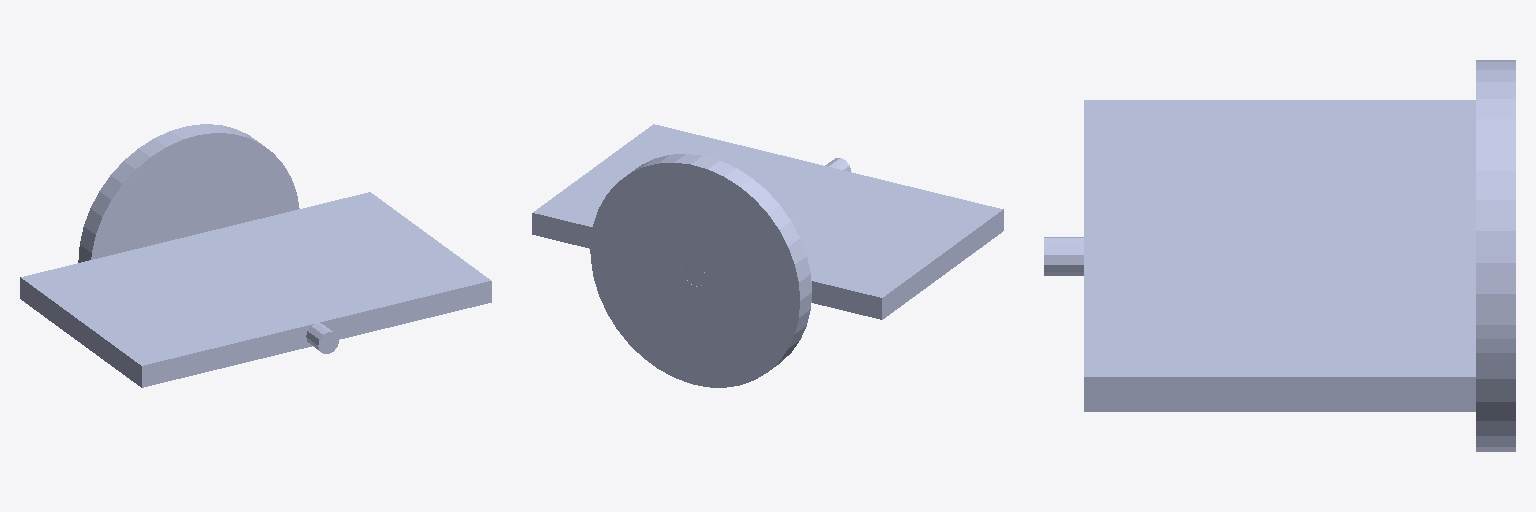
URDF robot description (Assem1.URDF):
<?xml version="1.0" encoding="utf-8"?>
<!-- This URDF was automatically created by SolidWorks to URDF Exporter! Originally created by [author] ([email redacted]) 
     Commit Version: 1.5.1-0-g916b5db  Build Version: 1.5.7152.31018
     For more information, please see http://wiki.ros.org/sw_urdf_exporter -->
<robot
  name="Assem1.URDF">
  <link
    name="base_link">
    <inertial>
      <origin
        xyz="0.19957 0.22972 0.40836"
        rpy="0 0 0" />
      <mass
        value="4.5424" />
      <inertia
        ixx="0.035248"
        ixy="-5.8363E-19"
        ixz="-1.1063E-17"
        iyy="0.12866"
        iyz="1.5811E-19"
        izz="0.094092" />
    </inertial>
    <visual>
      <origin
        xyz="0 0 0"
        rpy="0 0 0" />
      <geometry>
        <mesh
          filename="package://Assem1.URDF/meshes/base_link.STL" />
      </geometry>
      <material
        name="">
        <color
          rgba="0.79216 0.81961 0.93333 1" />
      </material>
    </visual>
    <collision>
      <origin
        xyz="0 0 0"
        rpy="0 0 0" />
      <geometry>
        <mesh
          filename="package://Assem1.URDF/meshes/base_link.STL" />
      </geometry>
    </collision>
  </link>
  <link
    name="W1">
    <inertial>
      <origin
        xyz="-2.7756E-17 0 0.015"
        rpy="0 0 0" />
      <mass
        value="2.0994" />
      <inertia
        ixx="0.012084"
        ixy="-1.8222E-38"
        ixz="9.404E-36"
        iyy="0.012084"
        iyz="-9.3126E-36"
        izz="0.023854" />
    </inertial>
    <visual>
      <origin
        xyz="0 0 0"
        rpy="0 0 0" />
      <geometry>
        <mesh
          filename="package://Assem1.URDF/meshes/W1.STL" />
      </geometry>
      <material
        name="">
        <color
          rgba="0.79216 0.81961 0.93333 1" />
      </material>
    </visual>
    <collision>
      <origin
        xyz="0 0 0"
        rpy="0 0 0" />
      <geometry>
        <mesh
          filename="package://Assem1.URDF/meshes/W1.STL" />
      </geometry>
    </collision>
  </link>
  <joint
    name="W1"
    type="continuous">
    <origin
      xyz="0.19957 -0.55836 0.22972"
      rpy="1.5708 0 0" />
    <parent
      link="base_link" />
    <child
      link="W1" />
    <axis
      xyz="0 0 1" />
  </joint>
  <link
    name="W2">
    <inertial>
      <origin
        xyz="-2.7756E-17 0 0.015"
        rpy="0 0 0" />
      <mass
        value="2.0994" />
      <inertia
        ixx="0.012084"
        ixy="-1.8222E-38"
        ixz="9.404E-36"
        iyy="0.012084"
        iyz="-9.3126E-36"
        izz="0.023854" />
    </inertial>
    <visual>
      <origin
        xyz="0 0 0"
        rpy="0 0 0" />
      <geometry>
        <mesh
          filename="package://Assem1.URDF/meshes/W2.STL" />
      </geometry>
      <material
        name="">
        <color
          rgba="0.79216 0.81961 0.93333 1" />
      </material>
    </visual>
    <collision>
      <origin
        xyz="0 0 0"
        rpy="0 0 0" />
      <geometry>
        <mesh
          filename="package://Assem1.URDF/meshes/W2.STL" />
      </geometry>
    </collision>
  </link>
  <joint
    name="W2"
    type="continuous">
    <origin
      xyz="0.19957 -0.22836 0.22972"
      rpy="1.5708 0 0" />
    <parent
      link="base_link" />
    <child
      link="W2" />
    <axis
      xyz="0 0 1" />
  </joint>
</robot>

--- Render facts (derived) ---
The picture shows the robot from 3 angles, left to right: view 1: azimuth 30°, elevation 25°; view 2: azimuth 150°, elevation 25°; view 3: azimuth 270°, elevation 25°; orthographic projection.
Robot: Assem1.URDF — 3 links, 2 joints (2 continuous); root link base_link; default pose: every joint at zero.
Visible links, largest first — view 1: base_link, W2; view 2: W2, base_link; view 3: base_link, W2.
Boxes of the visible links, box(x1,y1,x2,y2) form: base_link: box(20, 192, 491, 387); W2: box(78, 124, 299, 262); W2: box(590, 154, 811, 387); base_link: box(532, 124, 1003, 319); base_link: box(1044, 100, 1475, 411); W2: box(1476, 60, 1515, 451).
Size in the robot's own frame: 0.5 by 0.36 by 0.2998 metres.
2 mesh visuals loaded from 3 distinct referenced files (2 binary STL); not drawn: 1 (reference not matched to a file when rendering).